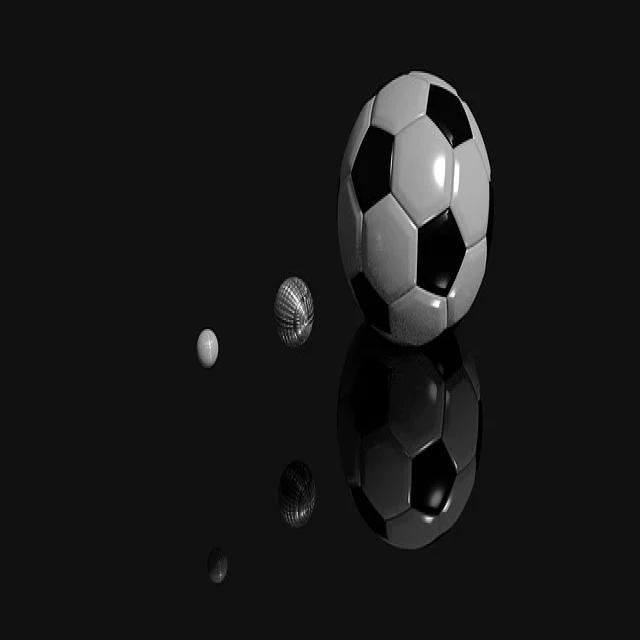hatball: (195, 328, 219, 372)
petanque: (274, 274, 314, 352)
